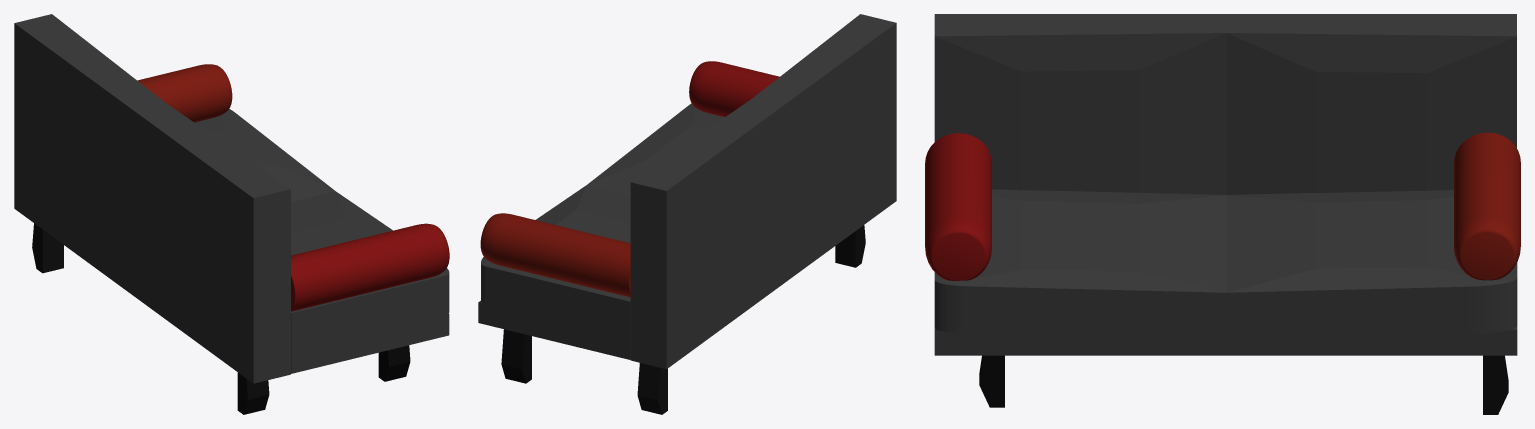
Rendered from koltuk.fbx.
The picture shows the model from 3 angles, left to right: view 1: azimuth 30°, elevation 25°; view 2: azimuth 150°, elevation 25°; view 3: azimuth 270°, elevation 25°; orthographic projection. The views are drawn at different scales.
Parts seen in each view (by area): view 1: Cube.002, Cube, Cylinder, Cylinder.001, Cube.001, Cube.006, Cube.005, Cube.003; view 2: Cube.002, Cube, Cylinder.001, Cube.001, Cylinder, Cube.004, Cube.006, Cube.005; view 3: Cube.002, Cube, Cube.001, Cylinder, Cylinder.001, Cube.004, Cube.003.
Part boxes in pixels (<box>): Cube.002: <box>14,14,290,383</box>; Cube: <box>194,108,449,352</box>; Cylinder: <box>291,223,449,311</box>; Cylinder.001: <box>137,64,232,122</box>; Cube.001: <box>291,313,449,373</box>; Cube.006: <box>32,223,63,273</box>; Cube.005: <box>237,372,269,414</box>; Cube.003: <box>378,345,410,381</box>; Cube.002: <box>630,14,896,369</box>; Cube: <box>481,103,724,339</box>; Cylinder.001: <box>480,213,630,297</box>; Cube.001: <box>478,301,630,359</box>; Cylinder: <box>689,61,779,116</box>; Cube.004: <box>501,329,531,383</box>; Cube.006: <box>637,363,667,414</box>; Cube.005: <box>835,225,865,267</box>; Cube.002: <box>934,14,1516,194</box>; Cube: <box>934,189,1517,333</box>; Cube.001: <box>934,326,1517,355</box>; Cylinder: <box>925,133,991,280</box>; Cylinder.001: <box>1454,132,1520,280</box>; Cube.004: <box>1483,355,1508,414</box>; Cube.003: <box>979,355,1004,407</box>.
Size of the model in its own units: 559 by 644 by 1172.
